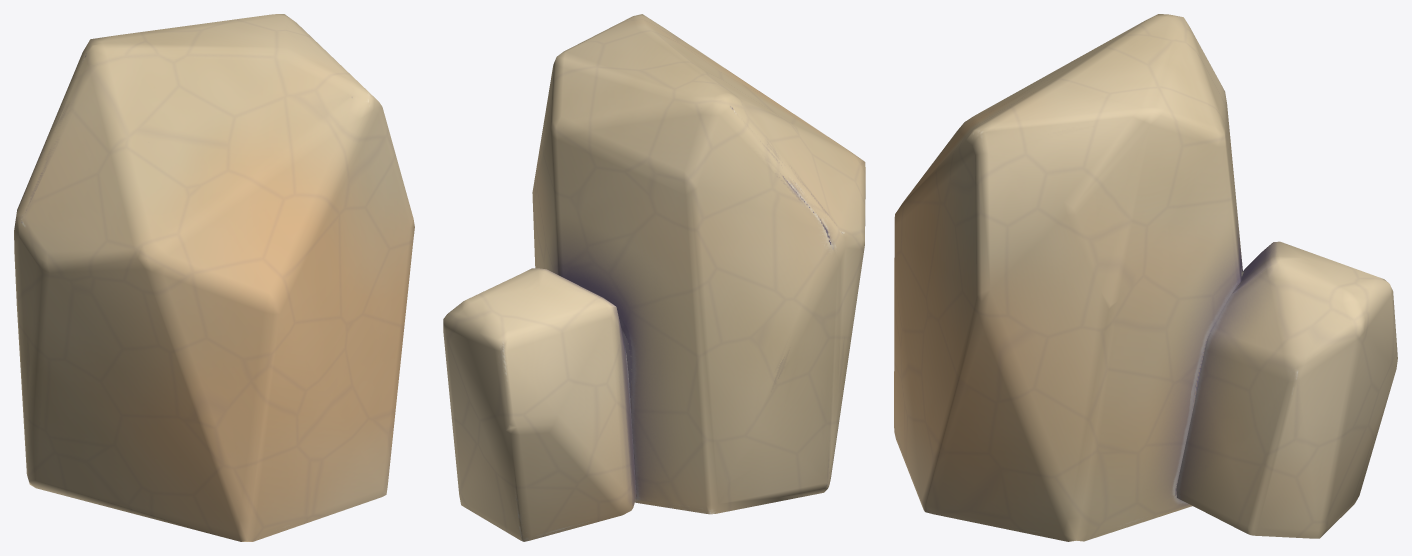
The model's file is RocherCalcaire_B.fbx.
3 renders of one model, left to right at view 1: azimuth 30°, elevation 25°; view 2: azimuth 150°, elevation 25°; view 3: azimuth 270°, elevation 25°, orthographic. The views are drawn at different scales.
Parts seen in each view (by area): view 1: RocherCalcaire_B; view 2: RocherCalcaire_B; view 3: RocherCalcaire_B.
Part boxes in pixels (x1,y1,x2,y2): RocherCalcaire_B: (14,14,414,541); RocherCalcaire_B: (443,14,865,541); RocherCalcaire_B: (894,14,1397,541).
Bounding box in the file's own units: 551 × 663 × 702.
1 material, 1 textured.
